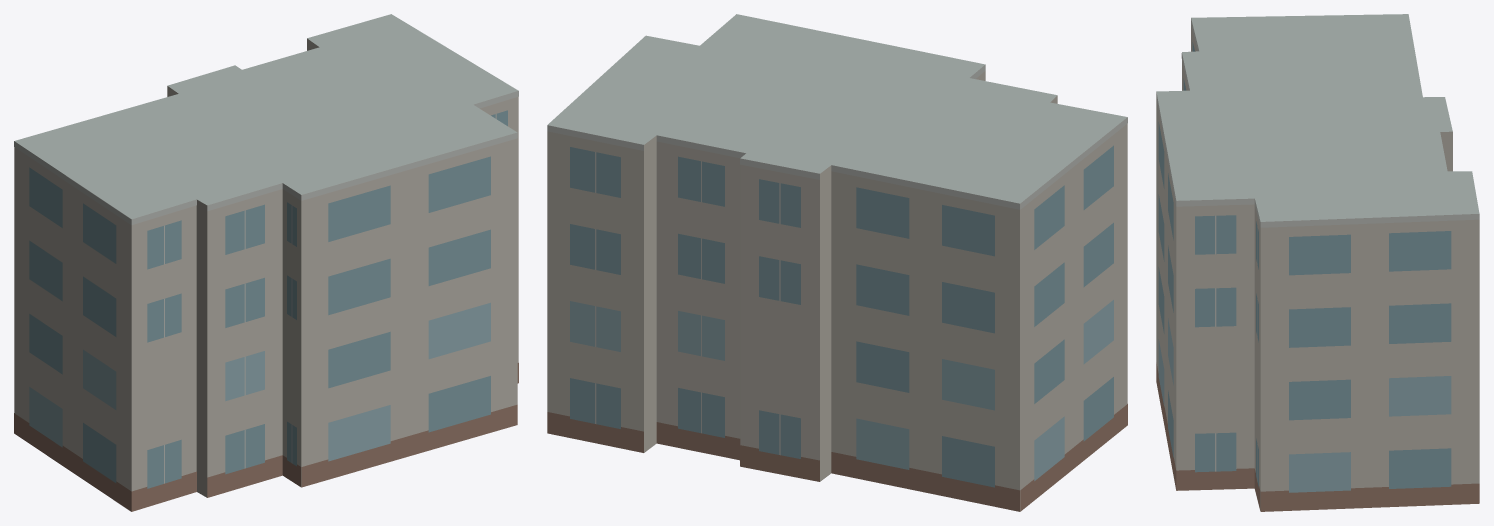
The model's file is survey-upis-32496200.glb.
3 views of the same model, side by side, from view 1: azimuth 30°, elevation 25°; view 2: azimuth 150°, elevation 25°; view 3: azimuth 270°, elevation 25° (orthographic). The views are drawn at different scales.
Visible parts, largest first — view 1: survey-upis-32496200.tmp; view 2: survey-upis-32496200.tmp; view 3: survey-upis-32496200.tmp.
Part boxes in pixels (x1,y1,x2,y2): survey-upis-32496200.tmp: [14, 14, 518, 511]; survey-upis-32496200.tmp: [547, 14, 1127, 511]; survey-upis-32496200.tmp: [1156, 14, 1479, 511].
Bounding box in the file's own units: 18.7 × 12.15 × 12.28.
